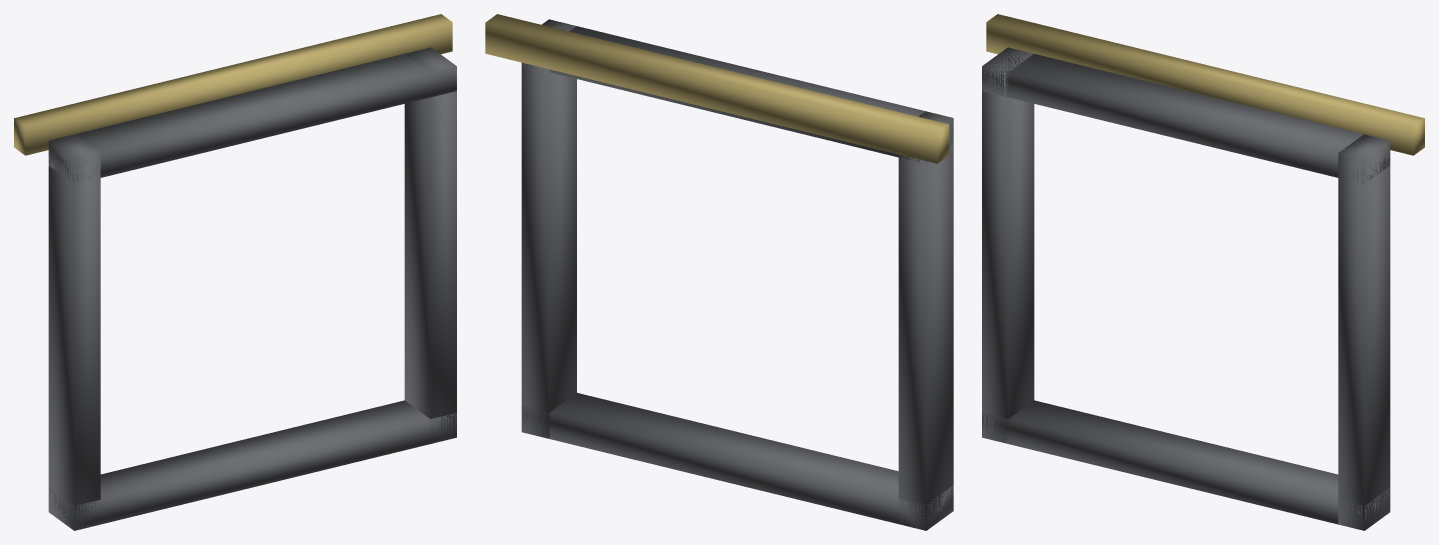
File: egress_window_motel_w118_h110_s55_d16.glb
3 renders of one model, left to right at view 1: azimuth 30°, elevation 25°; view 2: azimuth 150°, elevation 25°; view 3: azimuth 330°, elevation 25°, orthographic. The views are drawn at different scales.
Parts seen in each view (by area): view 1: world; view 2: world; view 3: world.
Boxes of the visible parts, left/top/right/bottom form: world: left=14, top=14, right=456, bottom=530; world: left=485, top=14, right=953, bottom=530; world: left=982, top=14, right=1424, bottom=530.
Bounding box in the file's own units: 1.53 × 1.33 × 0.235.
